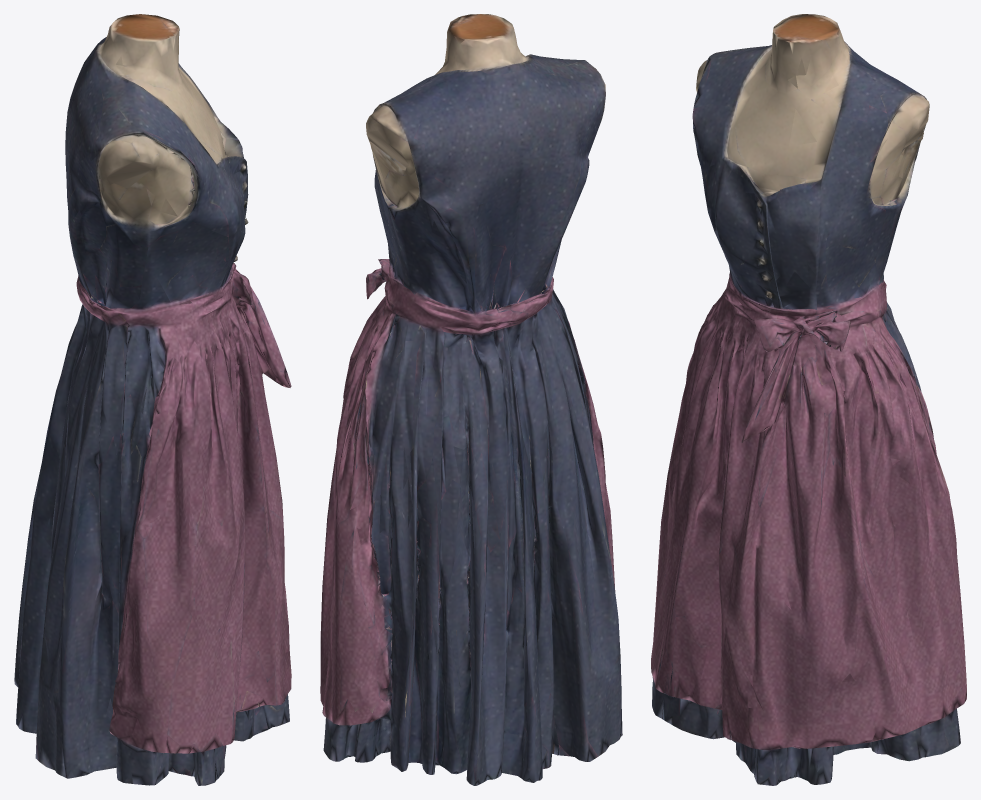
3 views of the same model, side by side, from view 1: azimuth 30°, elevation 25°; view 2: azimuth 150°, elevation 25°; view 3: azimuth 270°, elevation 25° (orthographic).
Parts seen in each view (by area): view 1: Dirndl_25k_512; view 2: Dirndl_25k_512; view 3: Dirndl_25k_512.
Part boxes in pixels (x1,y1,x2,y2): Dirndl_25k_512: (14, 14, 291, 785); Dirndl_25k_512: (320, 14, 622, 785); Dirndl_25k_512: (651, 14, 966, 785).
Bounding box in the file's own units: 0.407 × 1.13 × 0.4621.
1 material, 1 textured.
